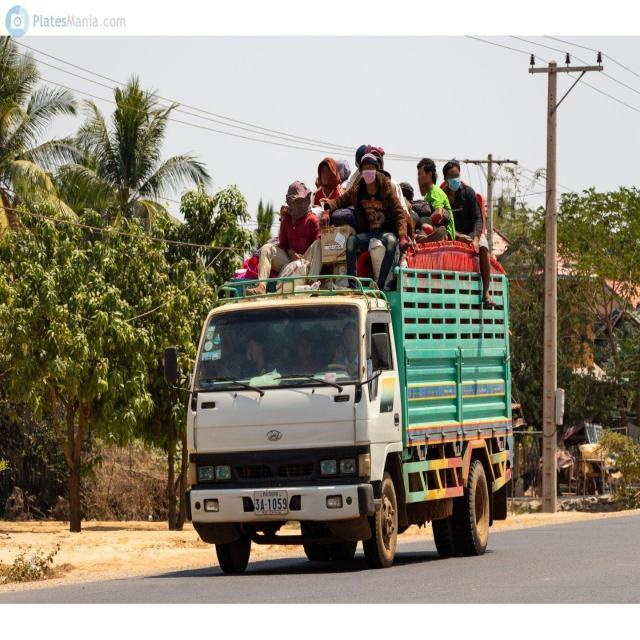Kampong_Cham: (262, 490, 278, 497)
